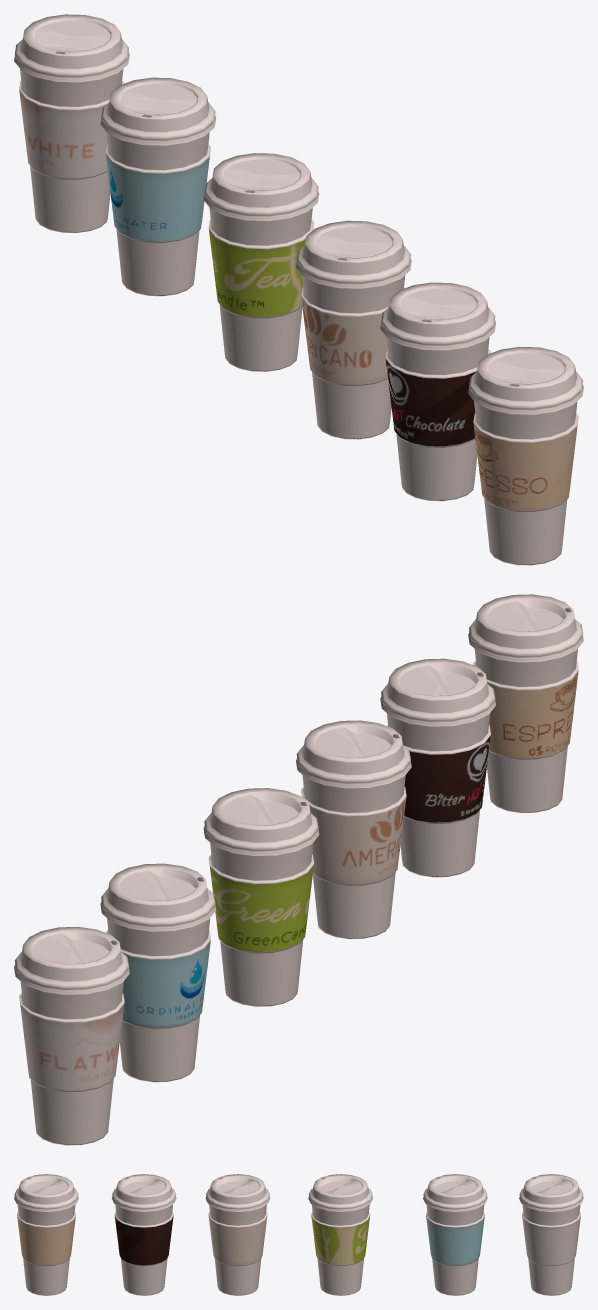
File: cc0ffee_cups.glb
3 views of the same model, one above another, from view 1: azimuth 30°, elevation 25°; view 2: azimuth 150°, elevation 25°; view 3: azimuth 270°, elevation 25° (orthographic). The views are drawn at different scales.
Parts seen in each view (by area): view 1: espresso_7, ordinalwater_5, greencandle_4, bitter-hot-coffee_3, flatwhite_6, americano_2; view 2: flatwhite_6, greencandle_4, americano_2, espresso_7, ordinalwater_5, bitter-hot-coffee_3; view 3: bitter-hot-coffee_3, americano_2, flatwhite_6, espresso_7, greencandle_4, ordinalwater_5.
Part boxes in pixels (bbox=[...]): espresso_7: bbox=[468, 347, 583, 565]; ordinalwater_5: bbox=[100, 77, 216, 296]; greencandle_4: bbox=[203, 153, 319, 371]; bitter-hot-coffee_3: bbox=[380, 282, 495, 501]; flatwhite_6: bbox=[14, 14, 129, 233]; americano_2: bbox=[296, 220, 411, 439]; flatwhite_6: bbox=[14, 927, 129, 1145]; greencandle_4: bbox=[203, 788, 319, 1006]; americano_2: bbox=[296, 720, 411, 939]; espresso_7: bbox=[468, 594, 583, 813]; ordinalwater_5: bbox=[100, 863, 215, 1082]; bitter-hot-coffee_3: bbox=[380, 658, 495, 877]; bitter-hot-coffee_3: bbox=[111, 1174, 176, 1295]; americano_2: bbox=[205, 1174, 270, 1295]; flatwhite_6: bbox=[519, 1174, 583, 1295]; espresso_7: bbox=[14, 1174, 78, 1295]; greencandle_4: bbox=[308, 1174, 372, 1295]; ordinalwater_5: bbox=[423, 1174, 487, 1295].
Size of the model in its own units: 0.0816 by 0.1408 by 0.7153.
1 material, 1 textured.
